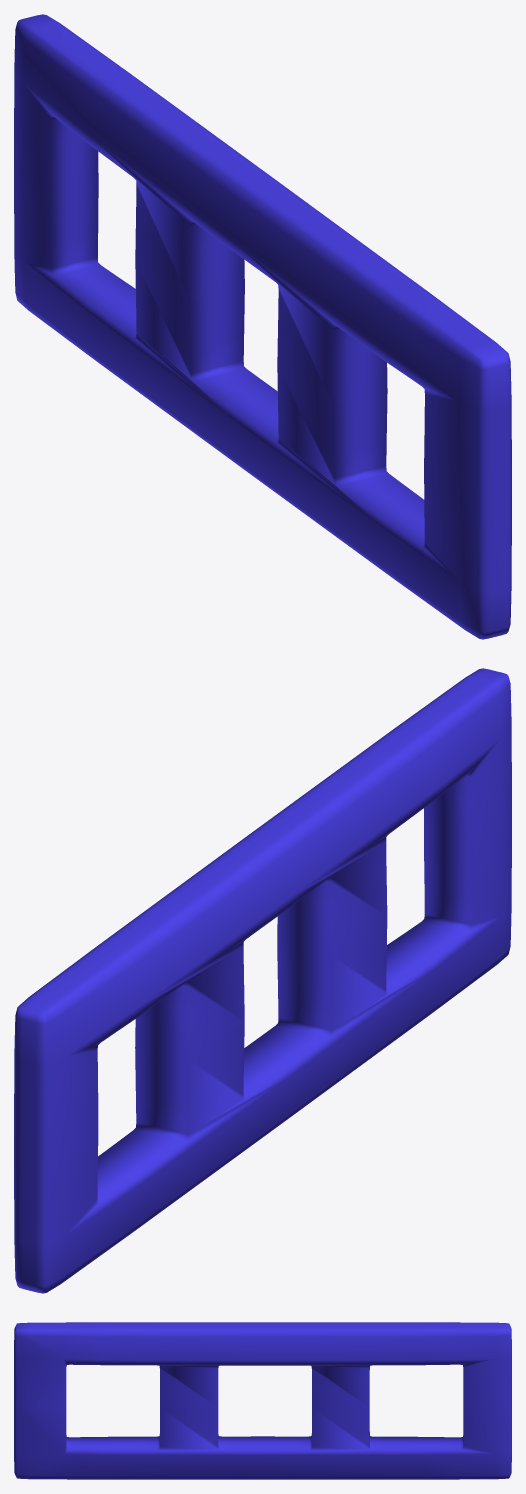
File: Duvar3xPencereli.fbx
The picture shows the model from 3 angles, top to bottom: view 1: azimuth 30°, elevation 25°; view 2: azimuth 150°, elevation 25°; view 3: azimuth 270°, elevation 25°; orthographic projection. The views are drawn at different scales.
Visible parts, largest first — view 1: Duvar3xPencereli; view 2: Duvar3xPencereli; view 3: Duvar3xPencereli.
Boxes of the visible parts, x1,y1,x2,y2 form: Duvar3xPencereli: (14,14,511,639); Duvar3xPencereli: (14,668,511,1293); Duvar3xPencereli: (14,1322,511,1479).
Bounding box in the file's own units: 41.19 × 200 × 600.
